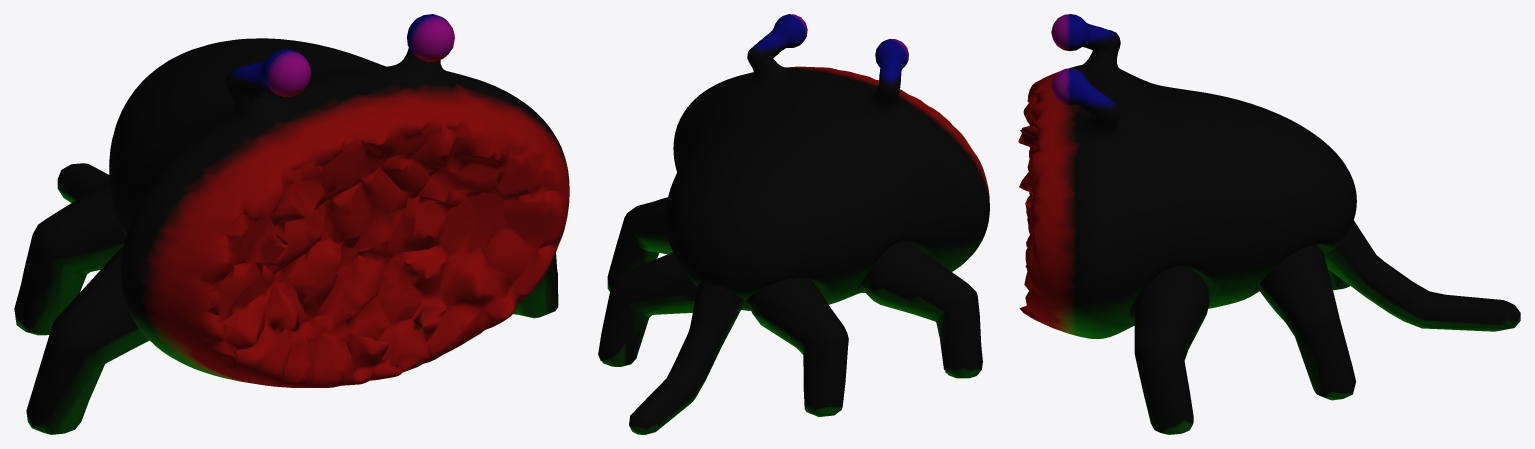
The model's file is crawler.glb.
The picture shows the model from 3 angles, left to right: view 1: azimuth 30°, elevation 25°; view 2: azimuth 150°, elevation 25°; view 3: azimuth 270°, elevation 25°; orthographic projection. The views are drawn at different scales.
Parts seen in each view (by area): view 1: crawler; view 2: crawler; view 3: crawler.
Boxes of the visible parts, x1,y1,x2,y2 form: crawler: [14, 14, 569, 434]; crawler: [598, 14, 989, 434]; crawler: [1018, 14, 1520, 434].
Size of the model in its own units: 0.6564 by 0.4602 by 0.7031.
